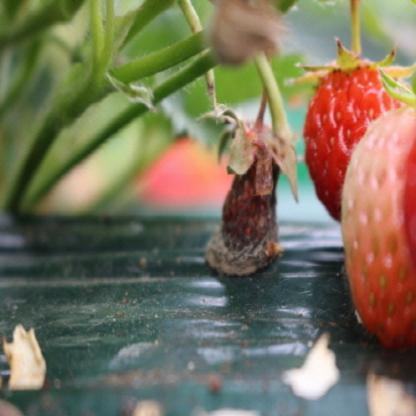Strawberry_Gray_Mold: (199, 102, 298, 279)
